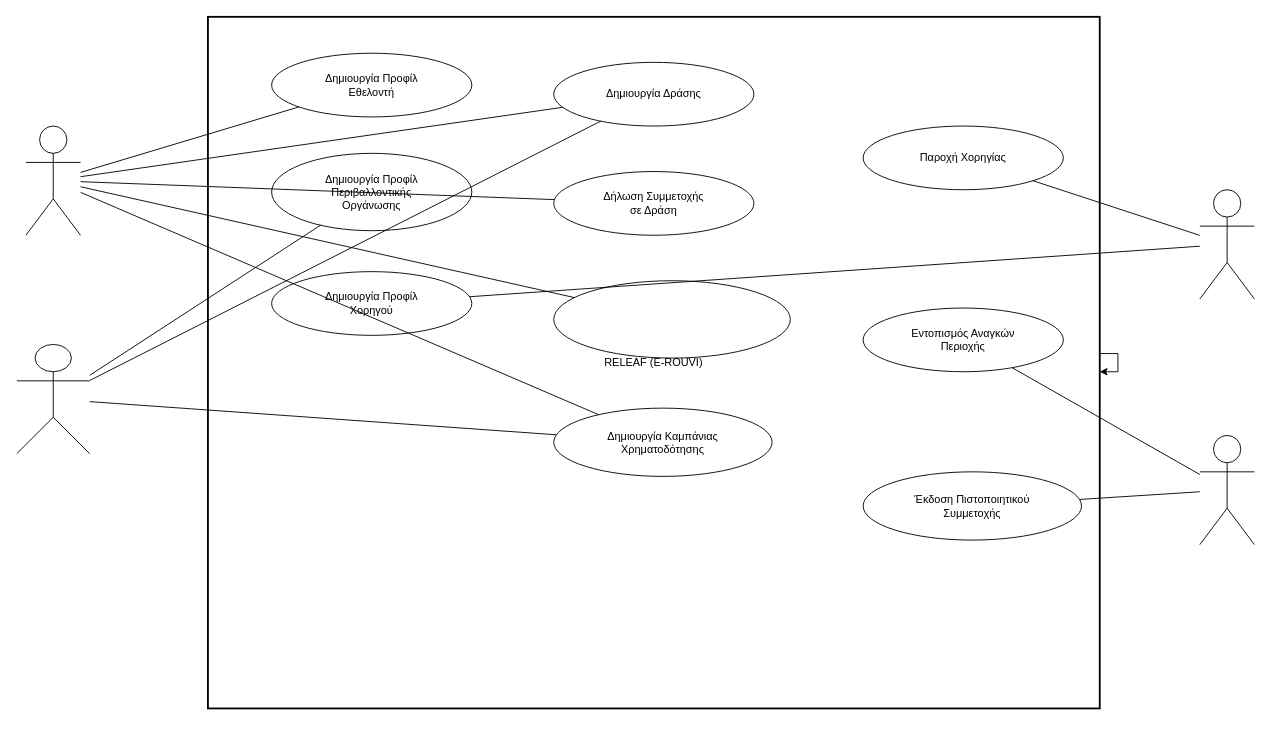
The diagram is 1270 pixels wide and 732 high, and some of its shapes have lost their labels. The shapes that lost their labels are listed below. From the top down, each one's centre as x and y in pixels, then its label:
At pixel 53 180: "Εθελοντής".
At pixel 1226 244: "Χορηγός".
At pixel 671 319: "Υποβολή Αίτησης Εγγραφής σε Περιβαλλοντική Οργάνωση".
At pixel 53 399: "Περιβαλλοντική Οργάνωση".
At pixel 1226 490: "Σύστημα".
